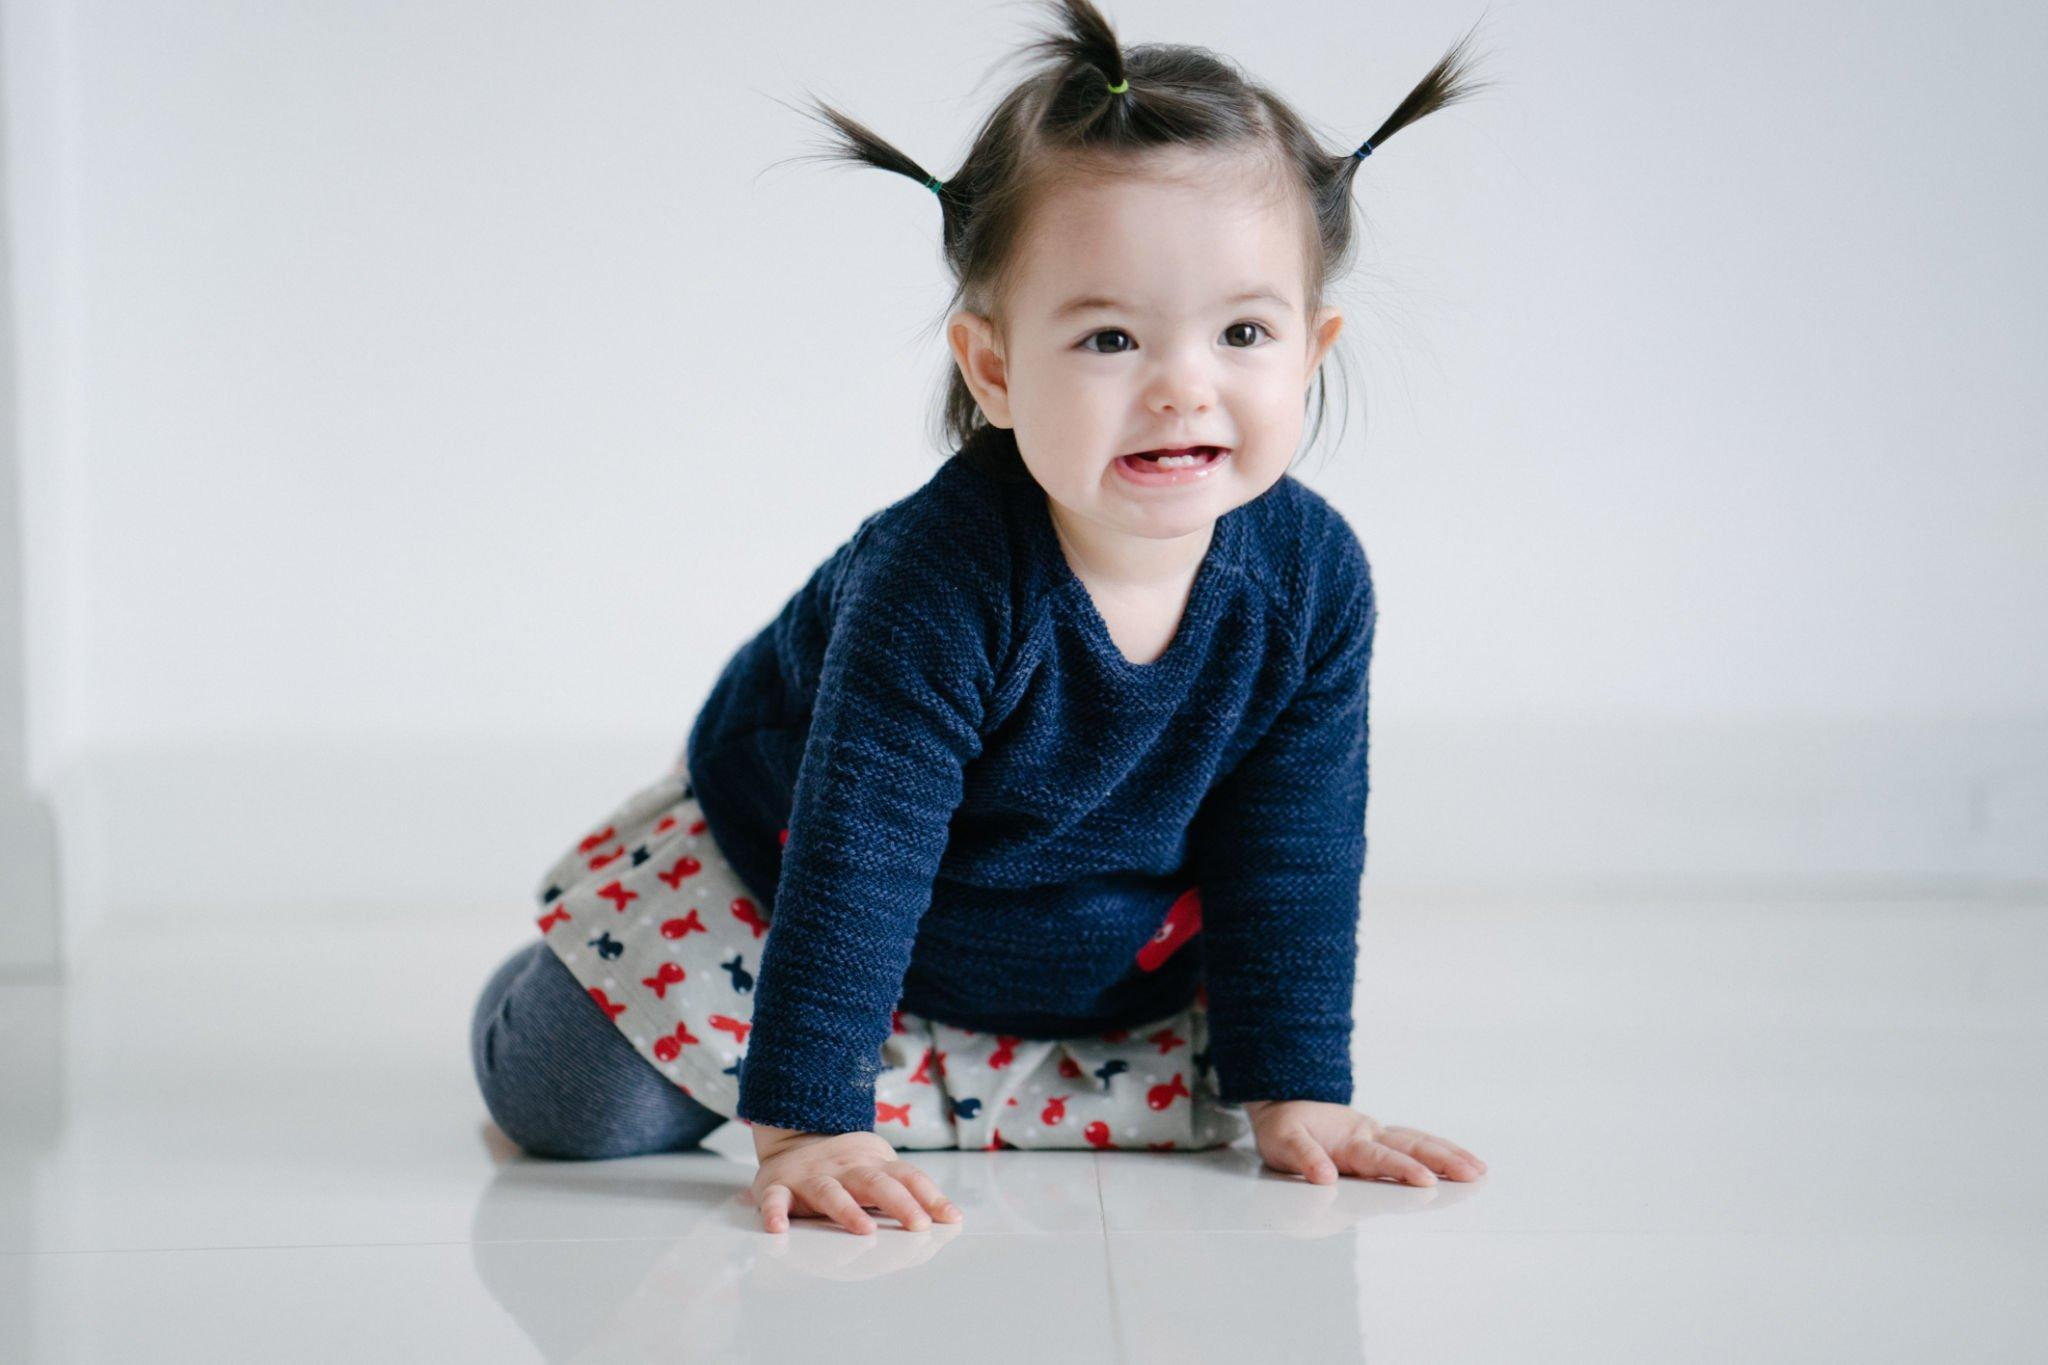Healthy: (936, 76, 1363, 545)
